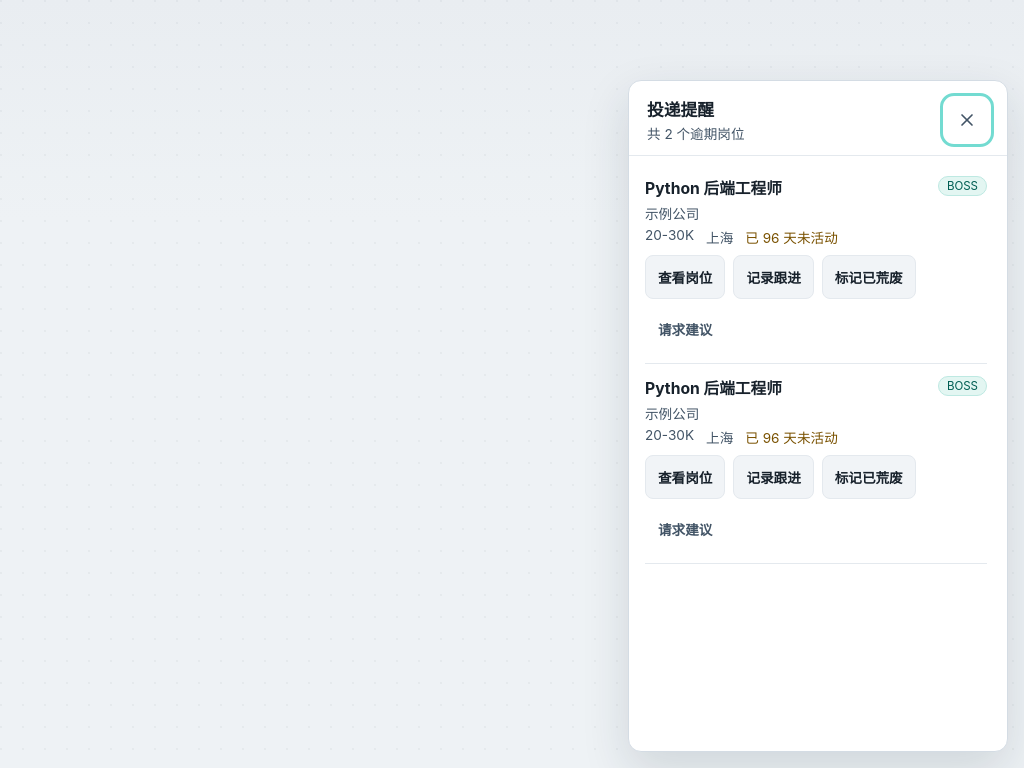
Test: T051 按需建议：逐项 loading、来源标签、不改变岗位状态 › 规则兜底建议显示“规则”来源；advice 失败显示真实错误且不影响动作按钮
Click the 1st button with test id "btn-advice".
click(685, 329)  # box [645,307,725,351]
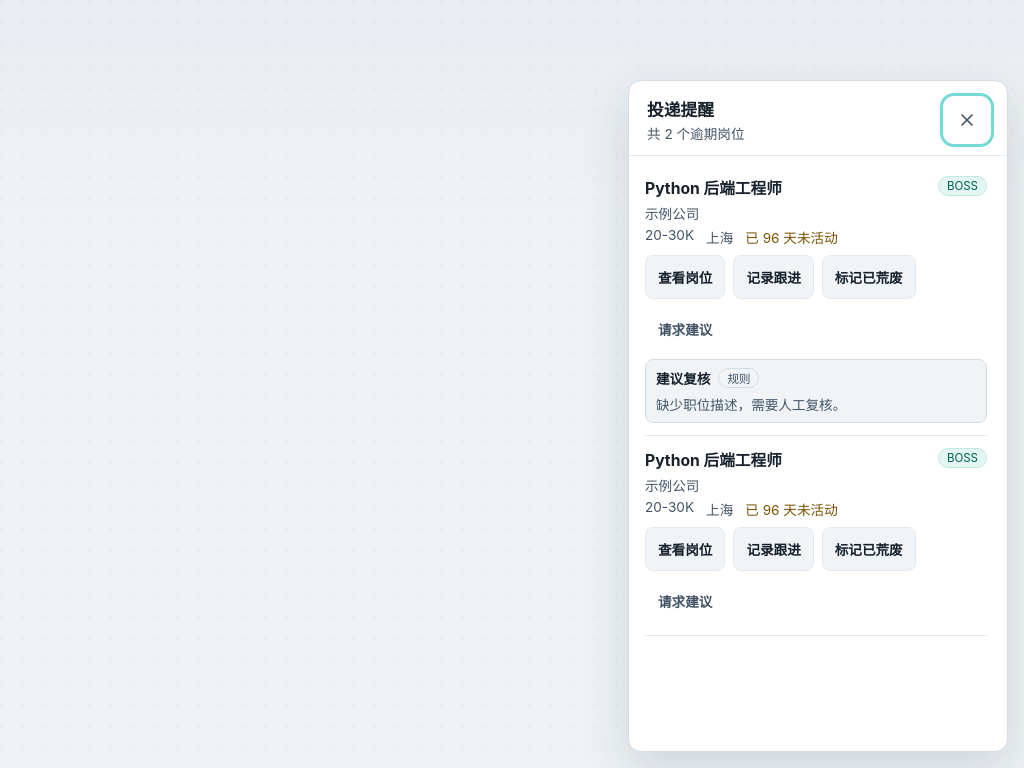
Now the element with test id "advice-result" shows "建议复核", box [656,371,710,387]
Now the text with test id "advice-source" reads "规则", box [727,372,750,386]
Click the 2nd button with test id "btn-advice".
click(685, 601)  # box [645,579,725,623]
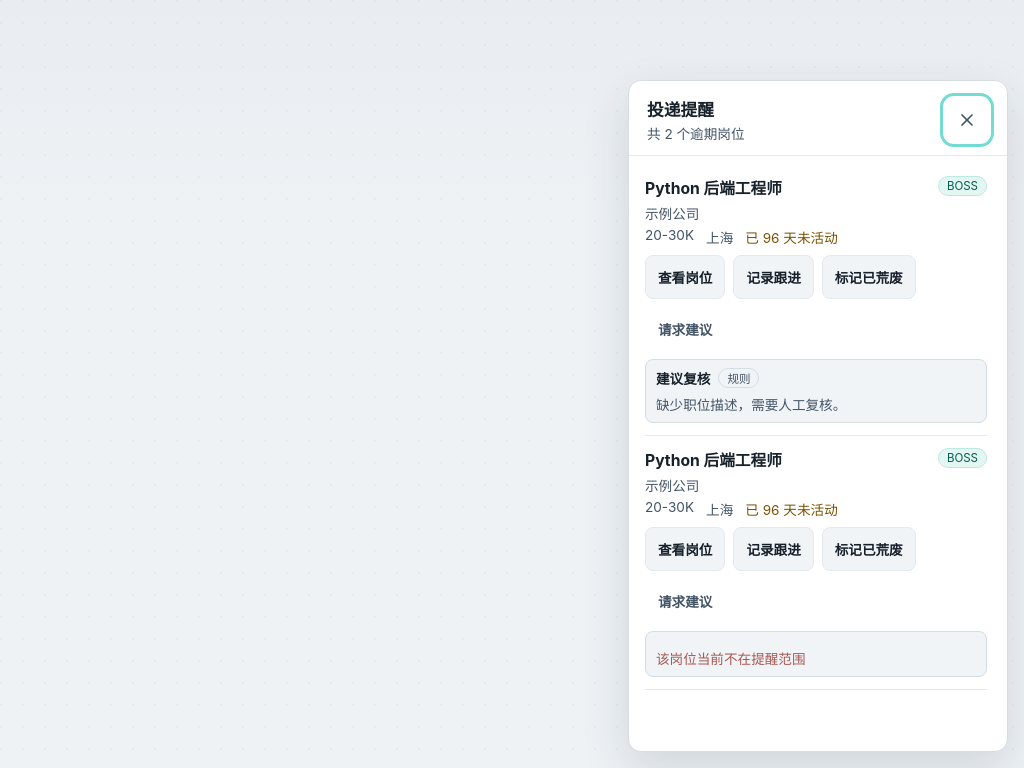
Expected: the 2nd button with test id "btn-follow-up" is enabled, [733,527,814,571]
Now the message with test id "advice-error" reads "该岗位当前不在提醒范围", box [656,651,806,667]
